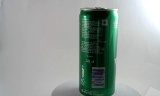sprite: (72, 5, 111, 95)
